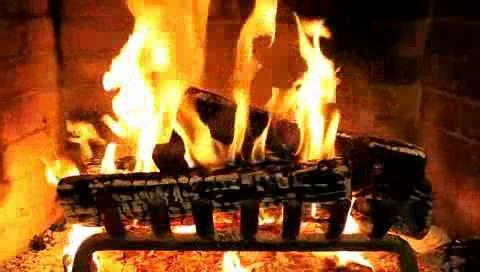fire: (9, 0, 479, 189)
